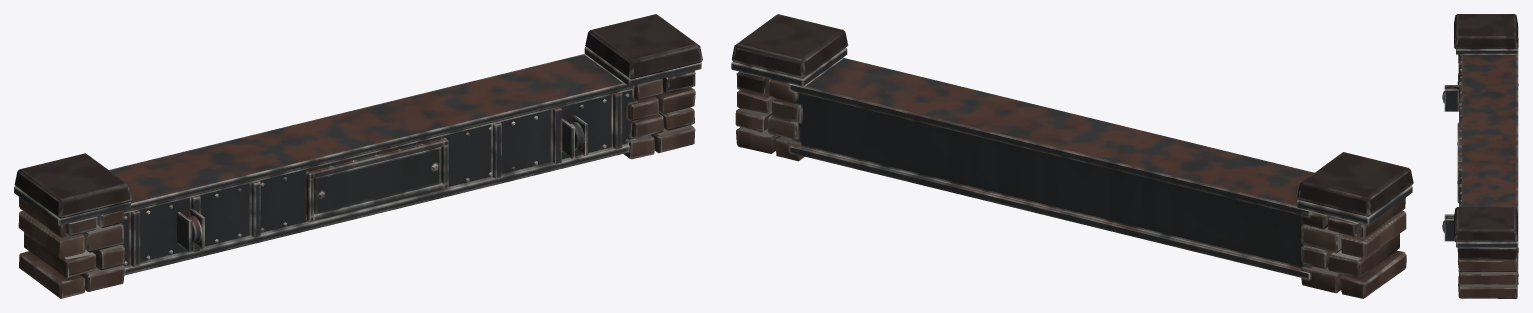
The model's file is foundry_gate_lintel.glb.
The picture shows the model from 3 angles, left to right: view 1: azimuth 30°, elevation 25°; view 2: azimuth 150°, elevation 25°; view 3: azimuth 270°, elevation 25°; orthographic projection. The views are drawn at different scales.
Visible parts, largest first — view 1: foundry_gate_lintel; view 2: foundry_gate_lintel; view 3: foundry_gate_lintel.
Boxes of the visible parts, bbox=[...] form: foundry_gate_lintel: bbox=[14, 14, 702, 298]; foundry_gate_lintel: bbox=[731, 14, 1413, 298]; foundry_gate_lintel: bbox=[1442, 14, 1518, 298].
Size of the model in its own units: 9.09 by 1.38 by 1.35.
Materials: 1 (1 with a texture image).
